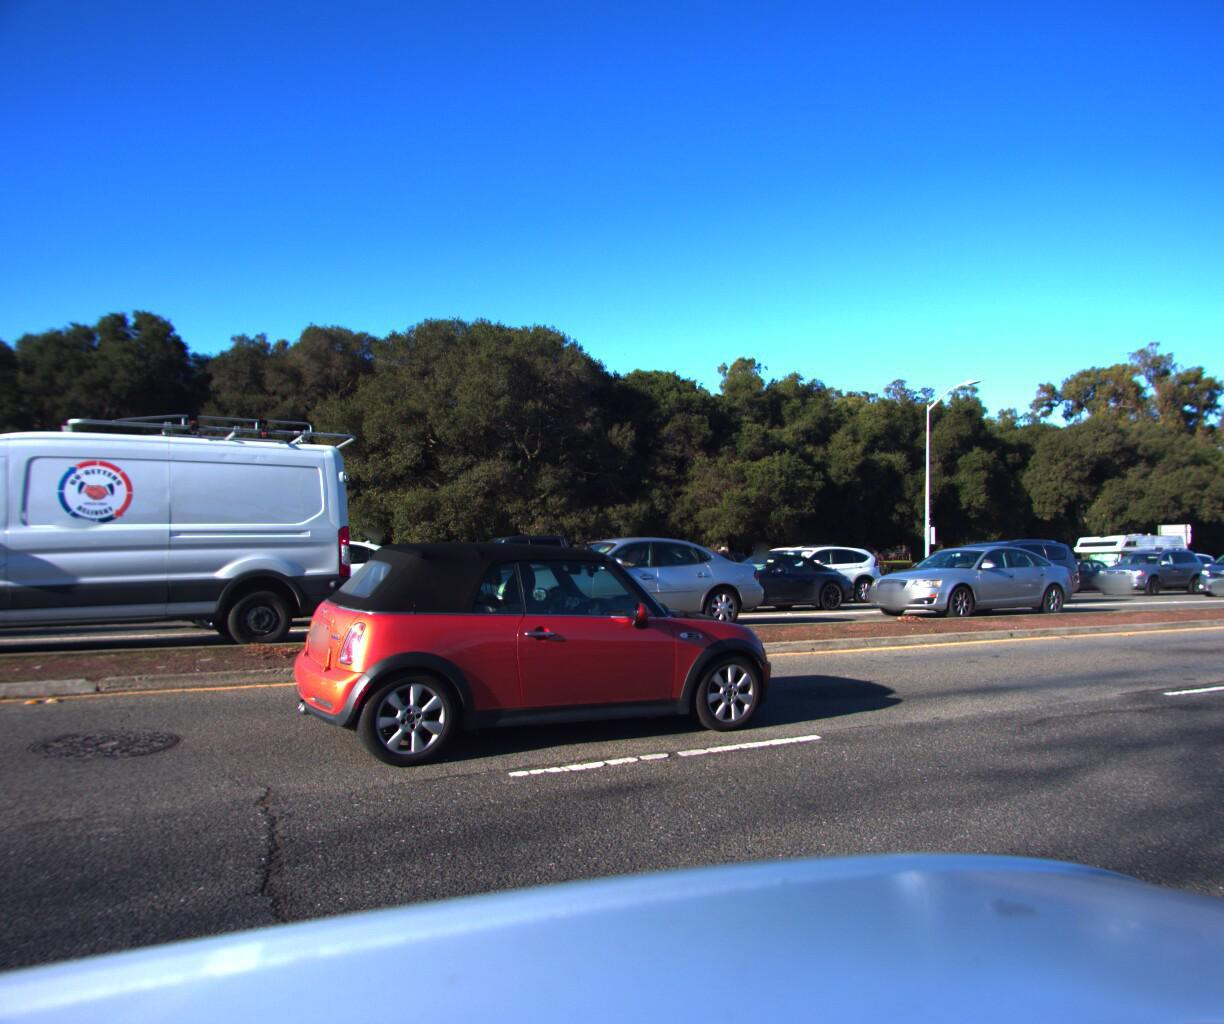car: (287, 536, 783, 784), (440, 527, 789, 638), (140, 528, 460, 635), (852, 539, 1093, 618), (410, 526, 639, 607), (351, 545, 583, 618), (662, 545, 870, 615), (899, 530, 1090, 606), (717, 537, 870, 600), (729, 539, 885, 599), (1087, 541, 1210, 592), (642, 548, 772, 595), (1019, 554, 1123, 591), (1123, 548, 1215, 587), (1187, 540, 1224, 595)
other_vehicle: (1065, 528, 1191, 586)
